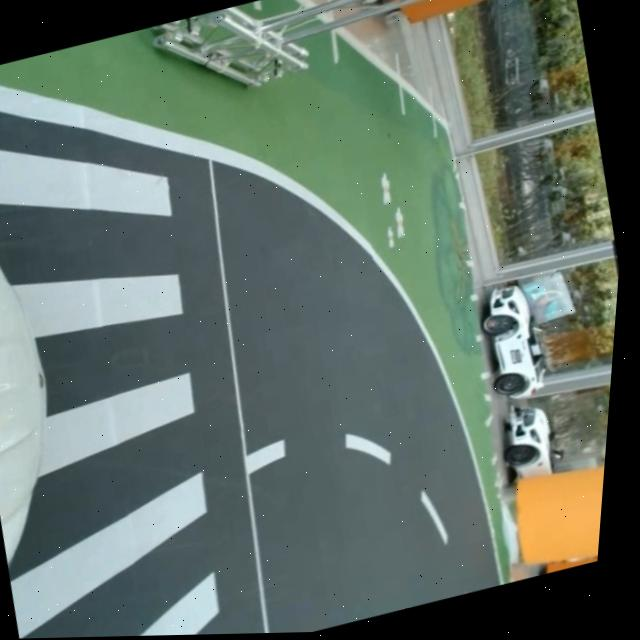traffic-light: (583, 233, 622, 537)
